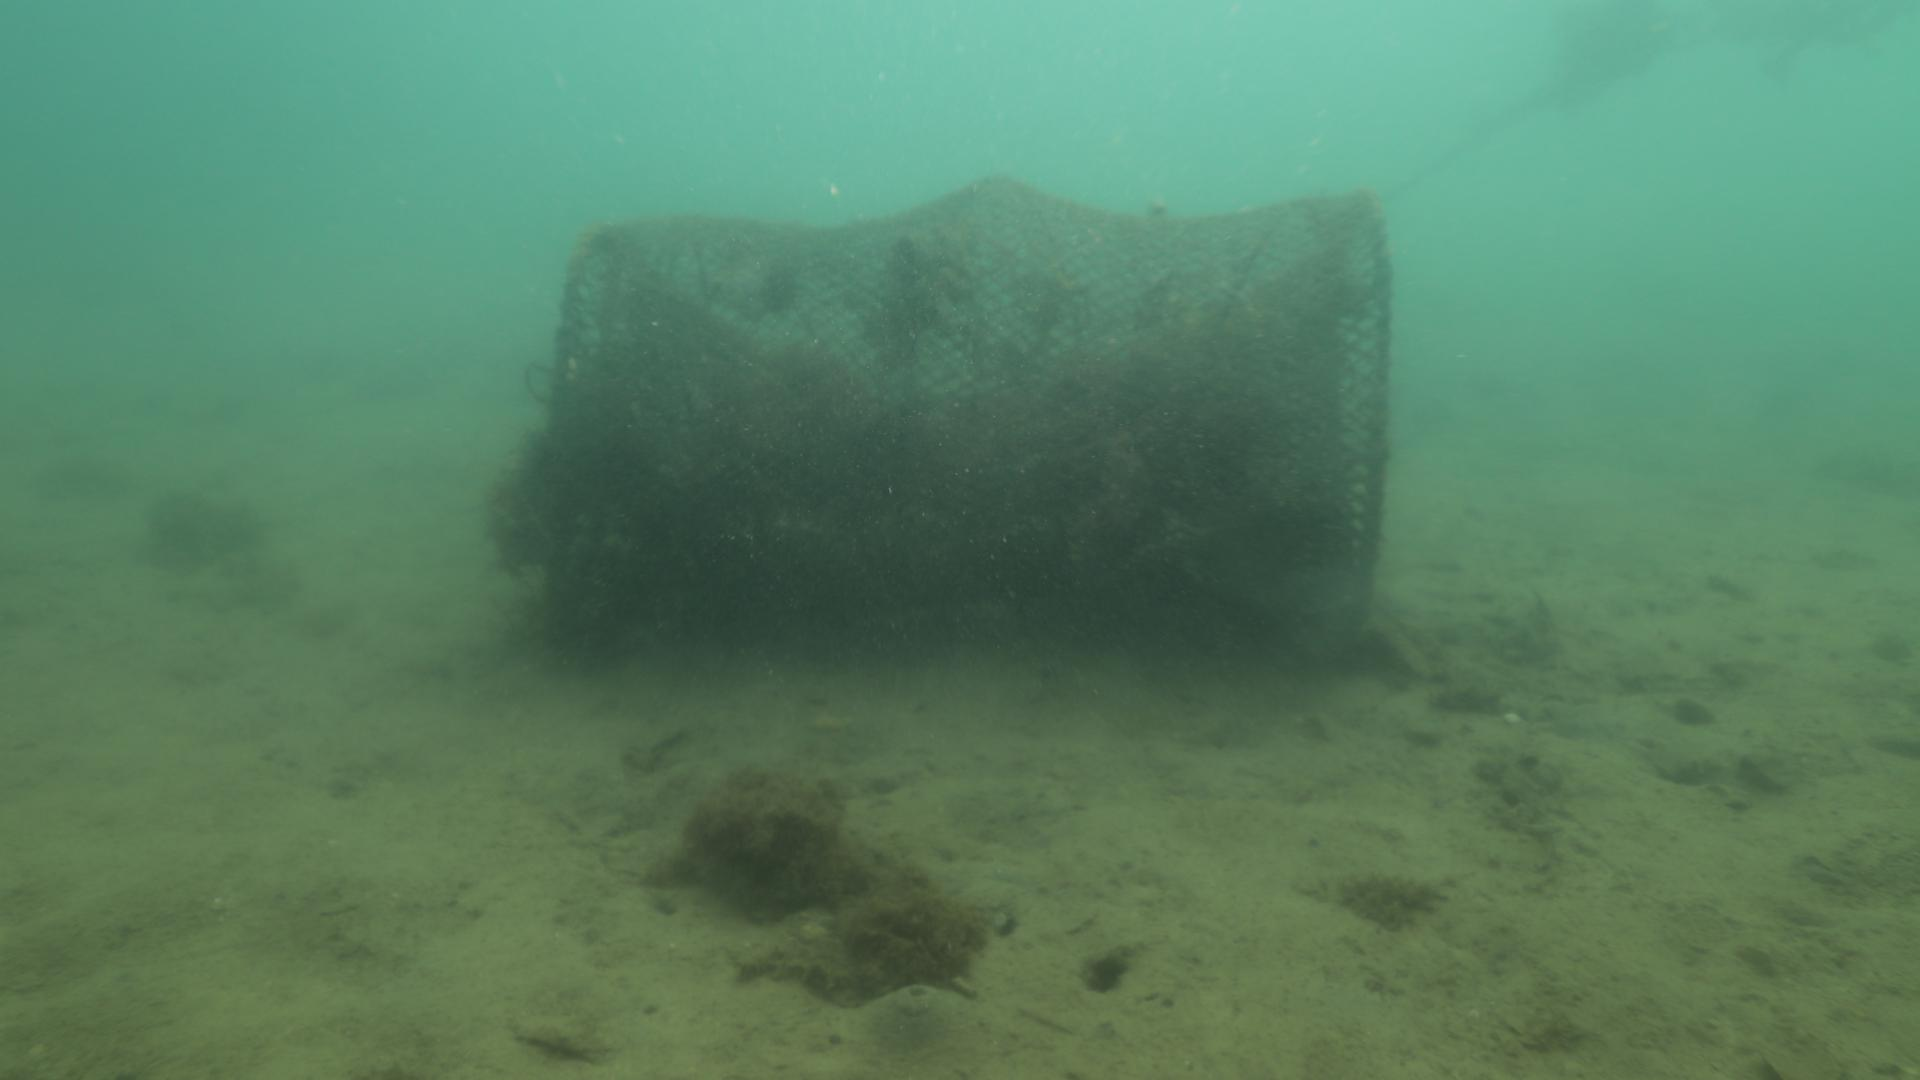spring fish trap: (546, 175, 1393, 655)
